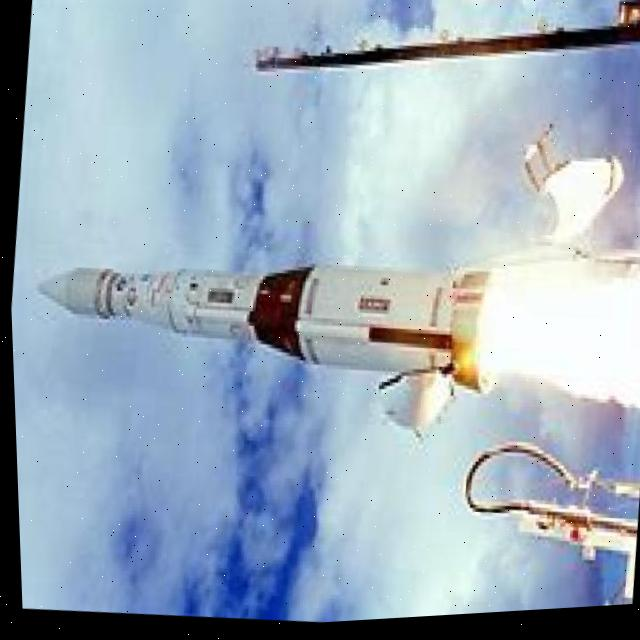missile: (16, 220, 497, 452)
